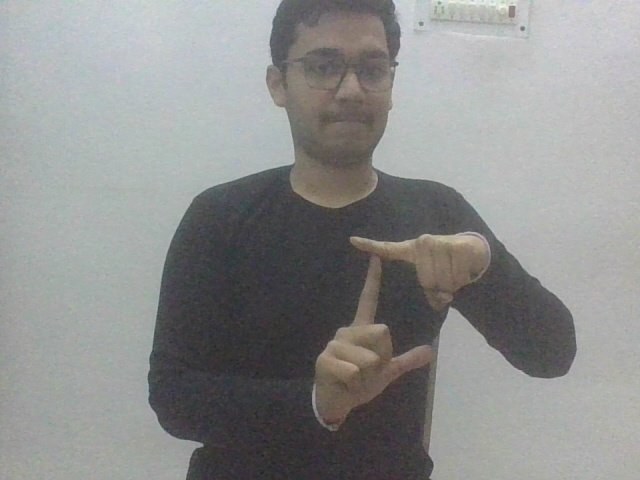J: (309, 233, 492, 433)
